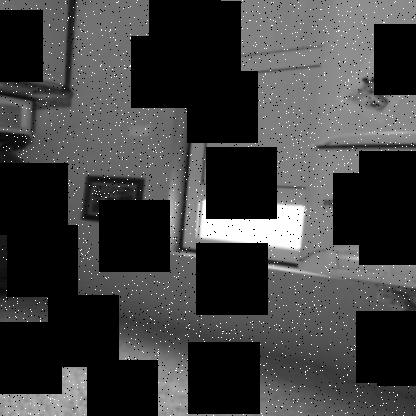Porte: (181, 1, 355, 274)
